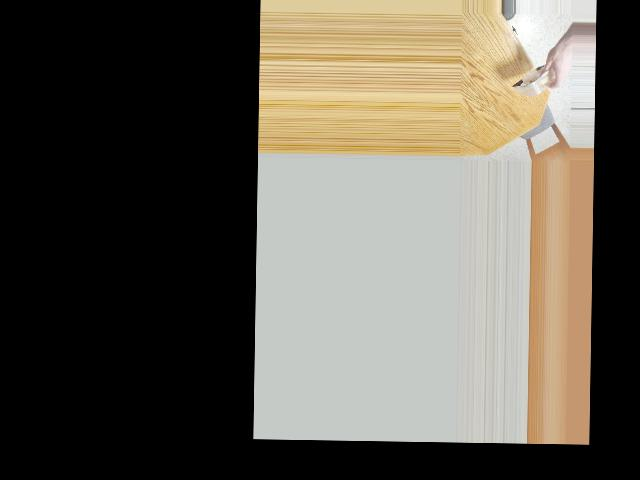cheese: (516, 49, 561, 102)
